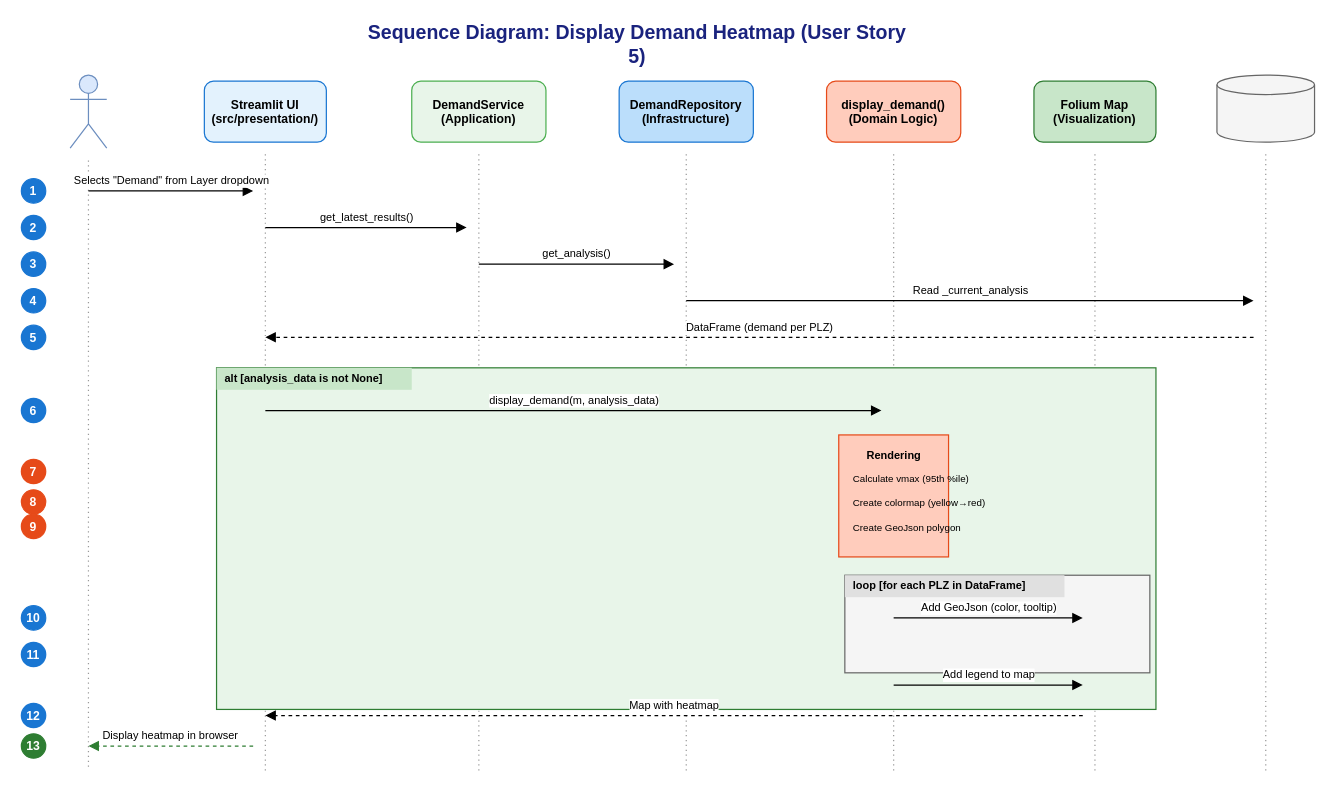
This 1336x793 diagram has some shape labels left out. The shapes that lost their labels are listed below. From the top down, each one's box as (x1, y1, x2, y2) in pixels, then its label:
(69, 74, 107, 148): User
(1216, 74, 1315, 142): In-Memory Storage
